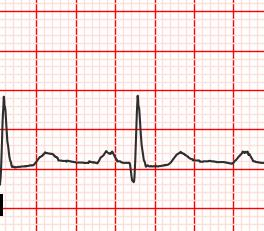Pathological Q Wave: (126, 159, 142, 186)
